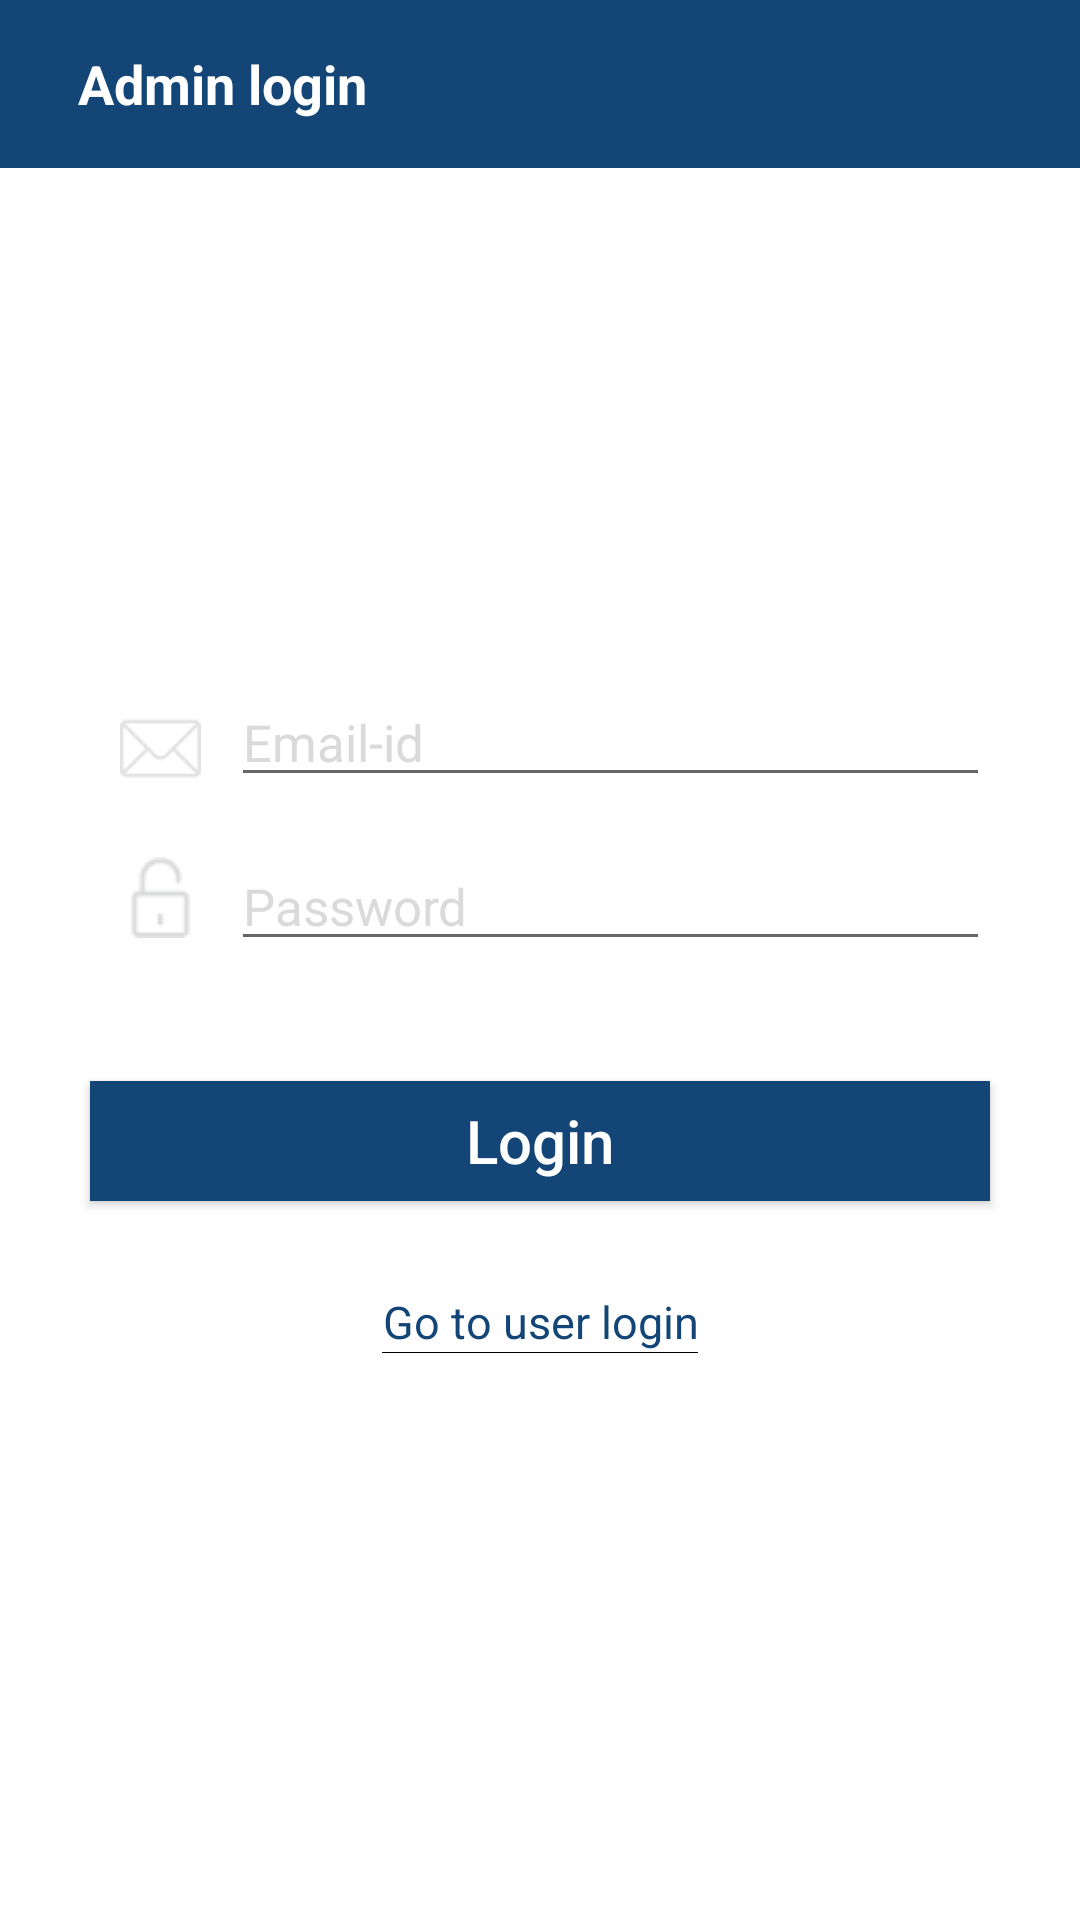

Point at icon controls on the screen. Image size 1080px×1920px, points as (x,y).
lock: (160,898)
